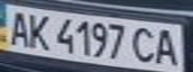1: (72, 18, 93, 56)
4: (51, 16, 75, 54)
7: (106, 20, 130, 61)
9: (90, 19, 112, 57)
A: (151, 26, 184, 68), (3, 7, 33, 47)
C: (127, 25, 160, 64)
K: (24, 11, 54, 52)
